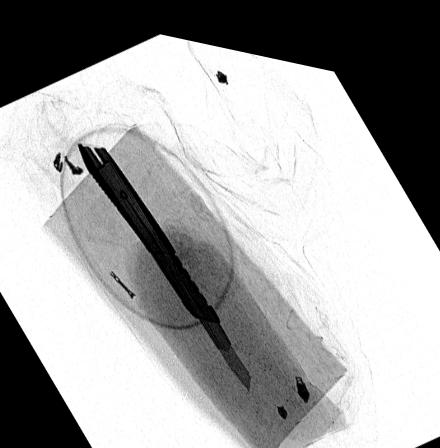Knife: (75, 139, 251, 381)
